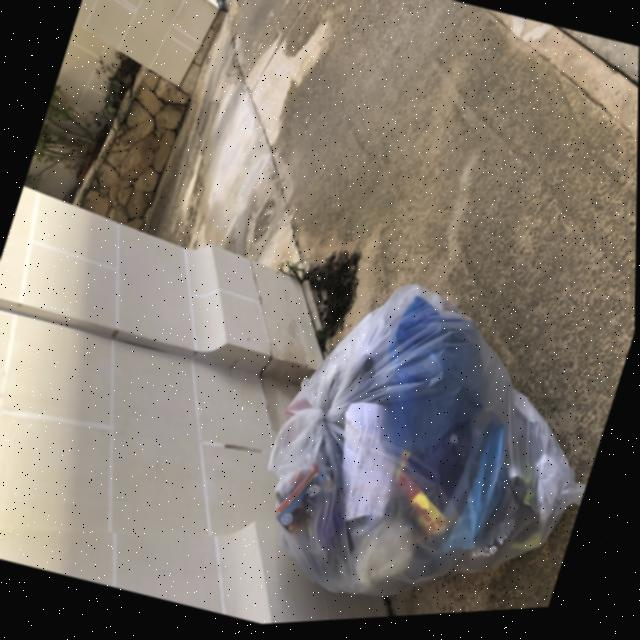Recycled Waste -Grey or Green Bag-: (236, 253, 636, 630)
